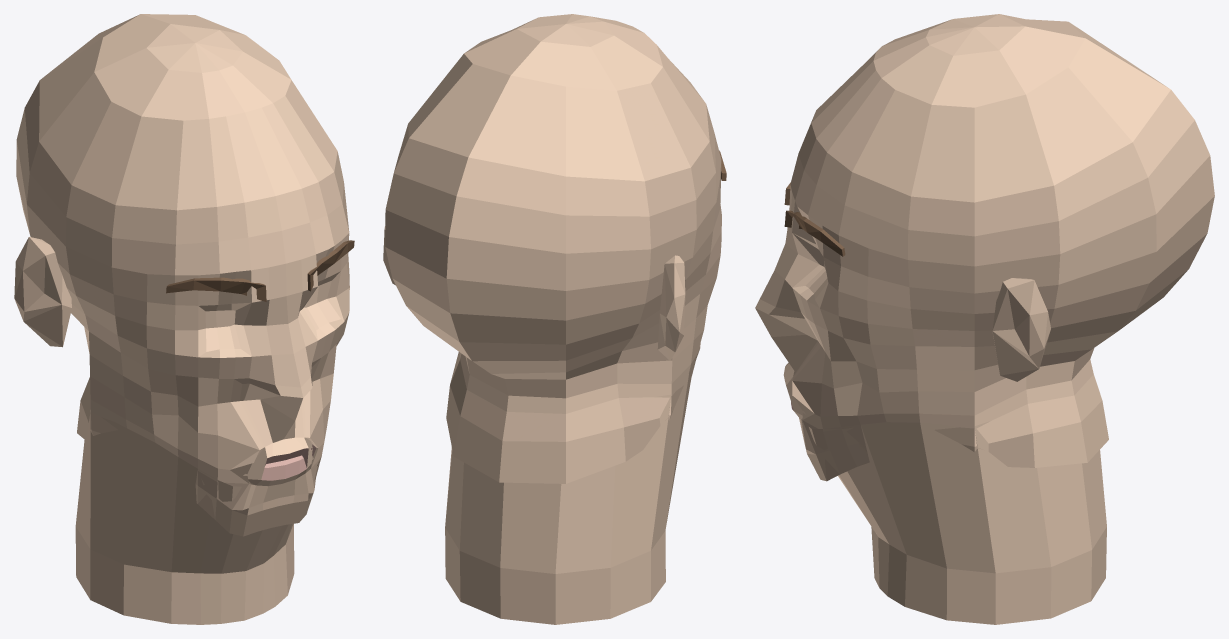
File: head_tpl_v5.glb
3 views of the same model, side by side, from view 1: azimuth 30°, elevation 25°; view 2: azimuth 150°, elevation 25°; view 3: azimuth 270°, elevation 25° (orthographic).
Visible parts, largest first — view 1: Head_Main, Ears, Eyebrow_R, Eyebrow_L; view 2: Head_Main, Ears; view 3: Head_Main, Ears, Eyebrow_L.
Part boxes in pixels (bbox=[...]): Head_Main: bbox=[16, 14, 349, 624]; Ears: bbox=[14, 237, 71, 347]; Eyebrow_R: bbox=[166, 277, 266, 301]; Eyebrow_L: bbox=[307, 240, 354, 291]; Head_Main: bbox=[385, 14, 721, 624]; Ears: bbox=[383, 226, 685, 360]; Head_Main: bbox=[755, 14, 1214, 624]; Ears: bbox=[992, 278, 1050, 381]; Eyebrow_L: bbox=[784, 210, 845, 256].
Size of the model in its own units: 0.1635 by 0.2886 by 0.218.
